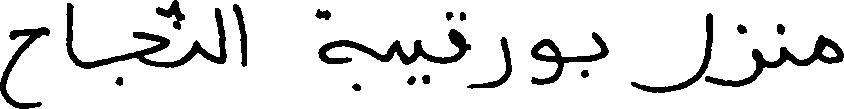X: (633, 8, 712, 97), (319, 4, 364, 95), (0, 22, 47, 108), (714, 19, 761, 91), (467, 32, 511, 93), (134, 2, 167, 72), (533, 34, 562, 89), (813, 30, 843, 68), (450, 7, 465, 67), (235, 0, 246, 71), (593, 27, 608, 65), (215, 3, 223, 68), (414, 35, 422, 87), (781, 19, 788, 69), (67, 0, 72, 65), (191, 35, 200, 63), (392, 35, 399, 62)
